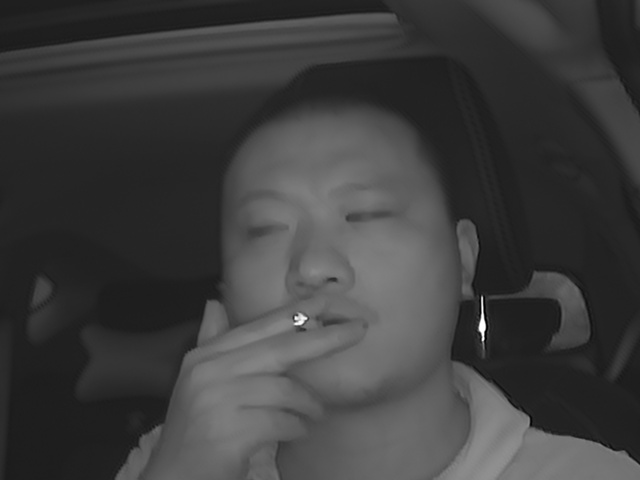hand: (216, 291, 363, 451)
